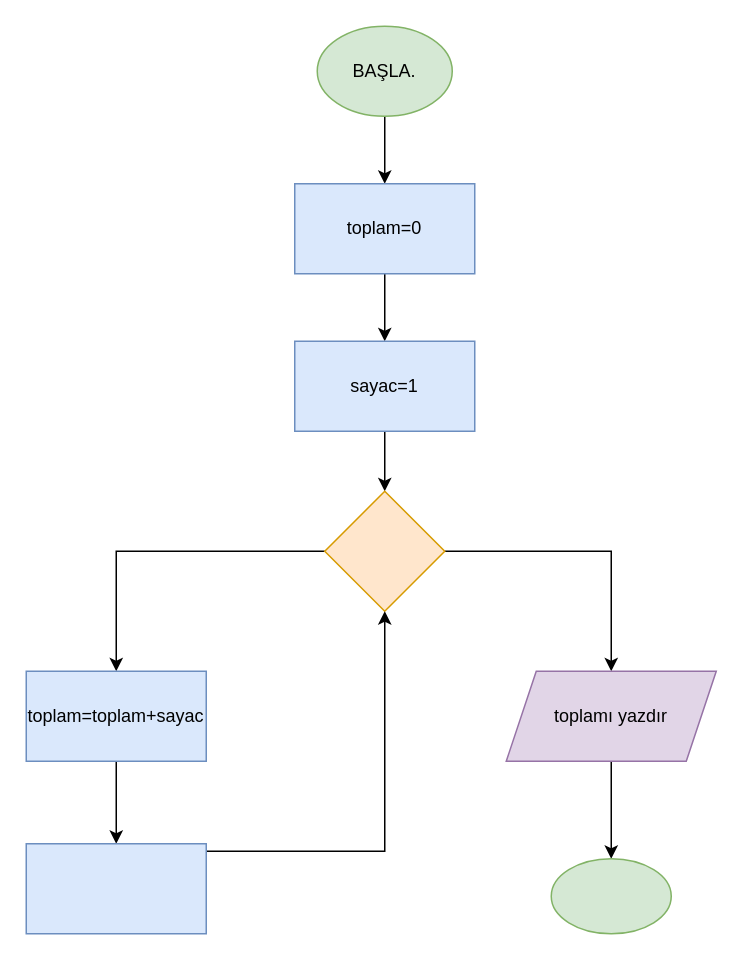
Some shapes in this 743 by 960 pixel diagram are drawn without their labels. Here are the shapes that lost their labels. From the top down, the centre of each, then its label:
At point 384,550: "sayac<n".
At point 115,888: "sayac=sayac+1".
At point 610,895: "DUR.".
